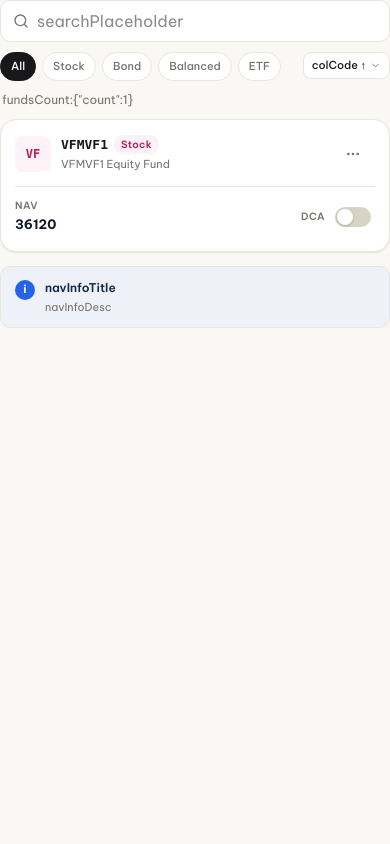
Scenario: MobileFundLibraryView — edit/delete menu › closes the menu once an item is chosen
The image size is (390, 844).
Click the button named "fundActions".
click(353, 154)  # box [331, 132, 375, 176]
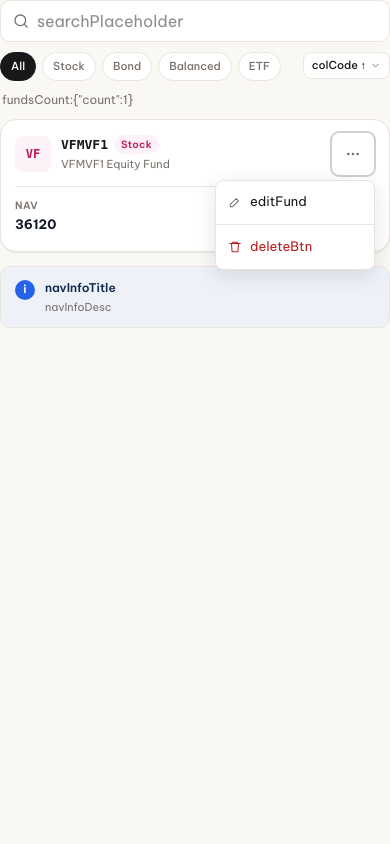
Click the menu item "deleteBtn".
click(295, 246)  # box [216, 224, 374, 268]
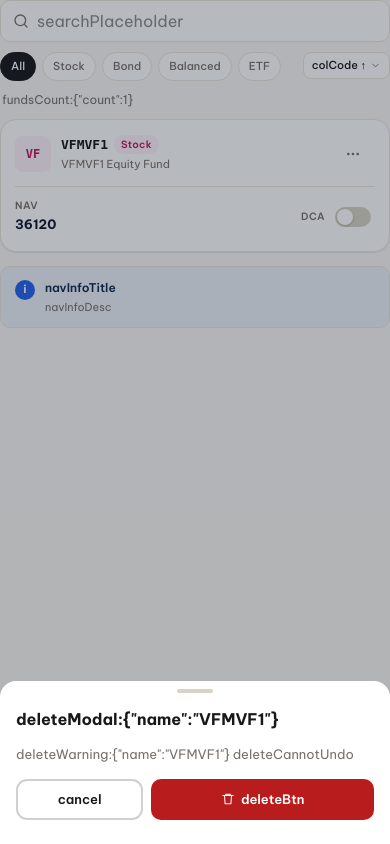
Expected: the menu is gone
Expected: the dialog with test id "delete-fund-sheet" is shown, [0, 681, 389, 843]
